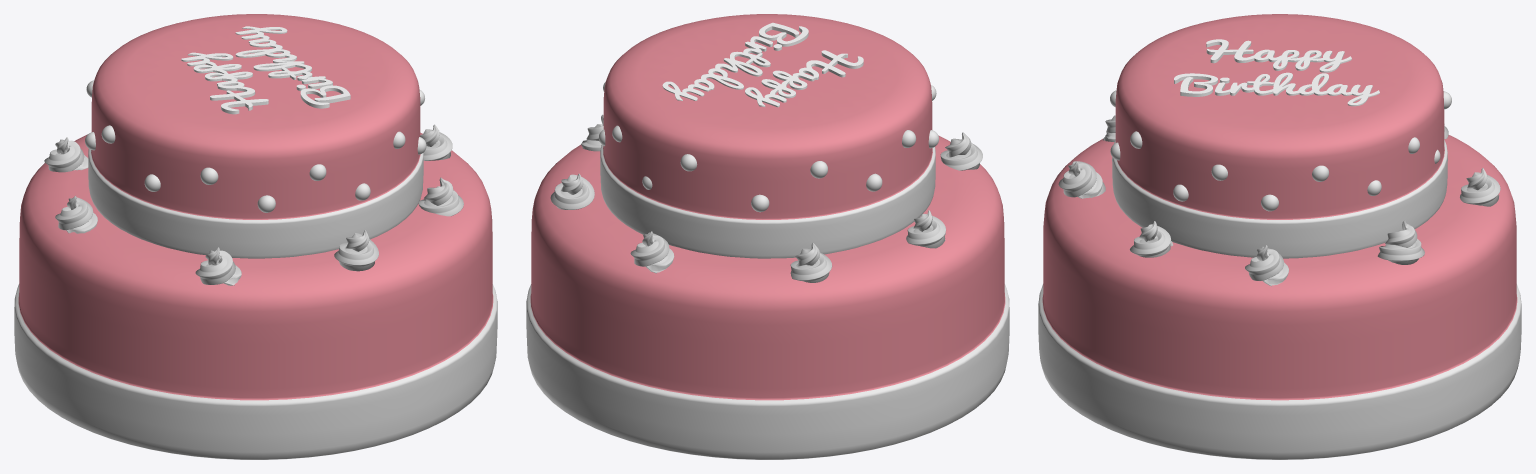
The model's file is cake.glb.
The picture shows the model from 3 angles, left to right: view 1: azimuth 30°, elevation 25°; view 2: azimuth 150°, elevation 25°; view 3: azimuth 270°, elevation 25°; orthographic projection.
Parts seen in each view (by area): view 1: Cake layer 1.001_30, Cake layer 1_29, Text_0, Spiral.003_2, Spiral.007_6, Spiral.004_3, Spiral.005_4, Spiral.008_7, Spiral.000_8; view 2: Cake layer 1.001_30, Cake layer 1_29, Text_0, Spiral.002_1, Spiral.006_5, Spiral.008_7, Spiral.007_6, Spiral.004_3; view 3: Cake layer 1.001_30, Cake layer 1_29, Text_0, Spiral.006_5, Spiral.003_2, Spiral.000_8, Spiral.002_1, Spiral.005_4.
Boxes of the visible parts, x1,y1,x2,y2 form: Cake layer 1.001_30: (14,132,497,459); Cake layer 1_29: (88,14,423,258); Text_0: (181,26,350,114); Spiral.003_2: (334,230,378,271); Spiral.007_6: (195,247,241,285); Spiral.004_3: (55,195,97,233); Spiral.005_4: (418,177,463,216); Spiral.008_7: (44,137,88,172); Spiral.000_8: (420,124,452,160); Cake layer 1.001_30: (526,135,1009,459); Cake layer 1_29: (600,14,935,258); Text_0: (662,22,863,107); Spiral.002_1: (630,231,674,273); Spiral.006_5: (550,173,594,209); Spiral.008_7: (790,242,832,282); Spiral.007_6: (940,132,982,170); Spiral.004_3: (906,210,945,248); Cake layer 1.001_30: (1038,135,1521,459); Cake layer 1_29: (1112,14,1447,258); Text_0: (1174,39,1379,106); Spiral.006_5: (1377,220,1424,264); Spiral.003_2: (1058,161,1105,198); Spiral.000_8: (1245,245,1288,286); Spiral.002_1: (1460,168,1500,206); Spiral.005_4: (1129,221,1172,257).
Size of the model in its own units: 8.88 by 5.89 by 8.88.
